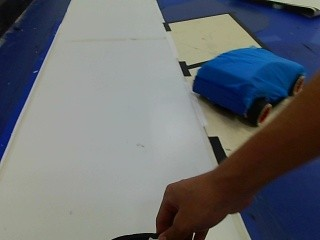car: (194, 48, 296, 121)
